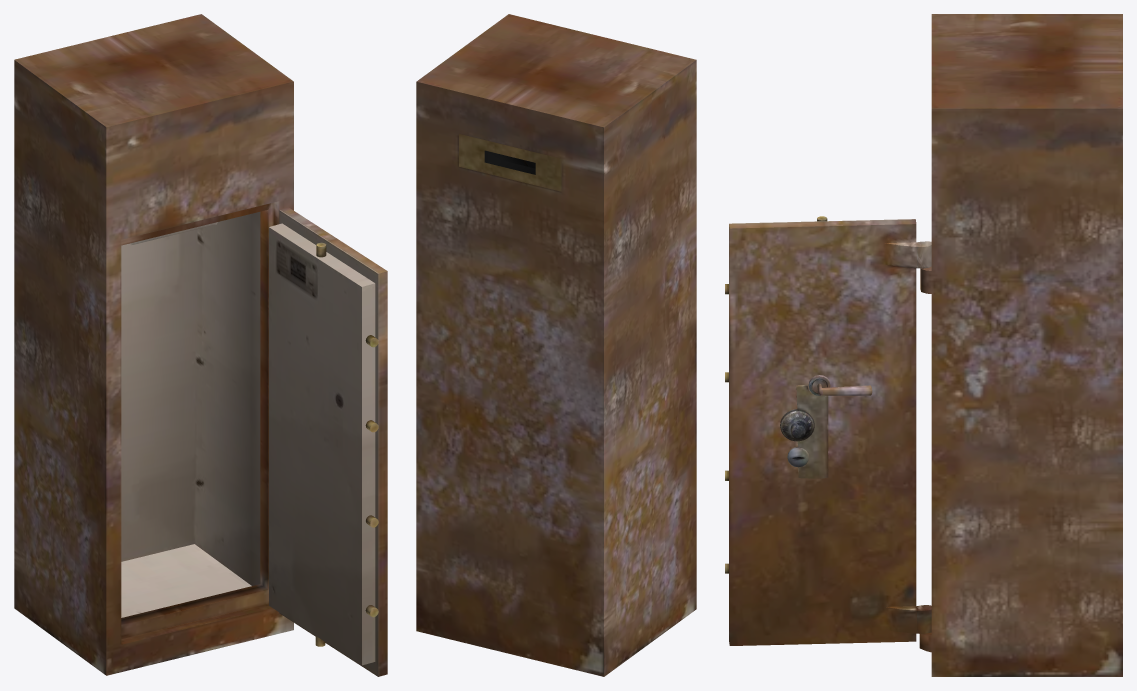
Rendered from money-safe-vintage.glb.
3 views of the same model, side by side, from view 1: azimuth 30°, elevation 25°; view 2: azimuth 150°, elevation 25°; view 3: azimuth 270°, elevation 25° (orthographic). The views are drawn at different scales.
Parts seen in each view (by area): view 1: body, Door, lockSystem; view 2: body; view 3: body, Door, lockModul, Handle.
Boxes of the visible parts, x1,y1,x2,y2 form: body: (14,14,293,675); Door: (269,207,387,676); lockSystem: (315,242,378,646); body: (416,14,696,676); body: (919,14,1122,676); Door: (729,219,931,645); lockModul: (780,410,814,441); Handle: (812,379,872,395).
Size of the model in its own units: 0.3371 by 0.9 by 0.5712.
1 material, 1 textured.
